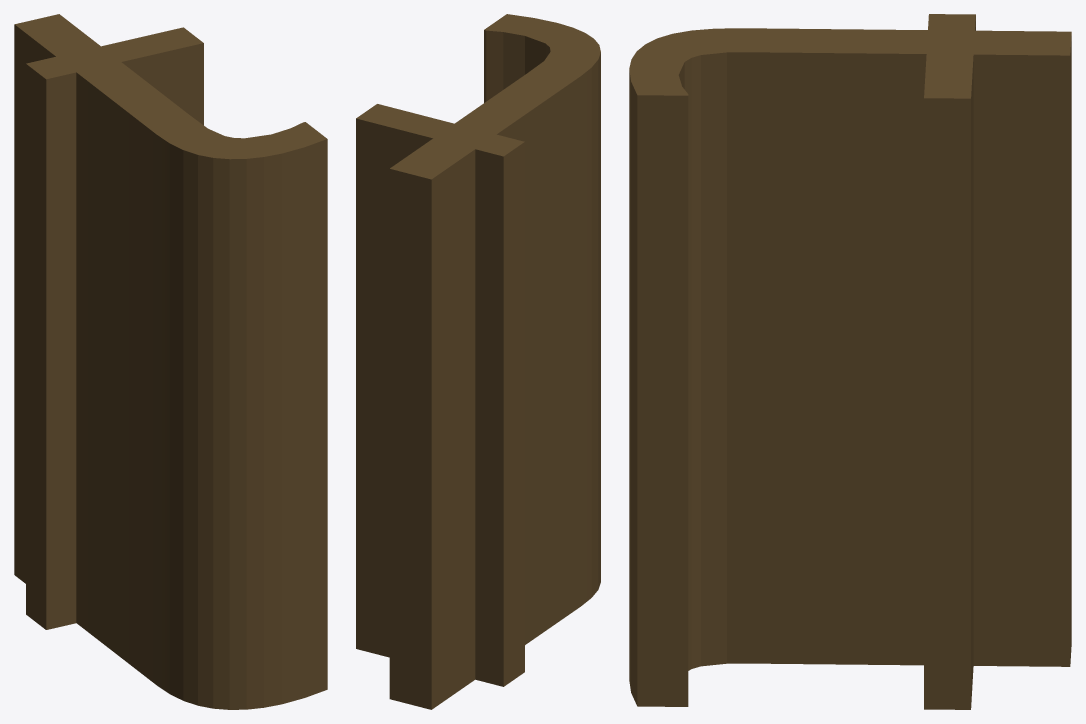
File: original-74.obj
The picture shows the model from 3 angles, left to right: view 1: azimuth 30°, elevation 25°; view 2: azimuth 150°, elevation 25°; view 3: azimuth 270°, elevation 25°; orthographic projection. The views are drawn at different scales.
Parts seen in each view (by area): view 1: mesh134/mesh134-geometry#mesh134-geometry; view 2: mesh134/mesh134-geometry#mesh134-geometry; view 3: mesh134/mesh134-geometry#mesh134-geometry.
Part boxes in pixels (x1,y1,x2,y2): mesh134/mesh134-geometry#mesh134-geometry: [14, 14, 327, 709]; mesh134/mesh134-geometry#mesh134-geometry: [356, 14, 600, 709]; mesh134/mesh134-geometry#mesh134-geometry: [629, 14, 1071, 709].
Size of the model in its own units: 0.00483 by 0.0163 by 0.0107.
